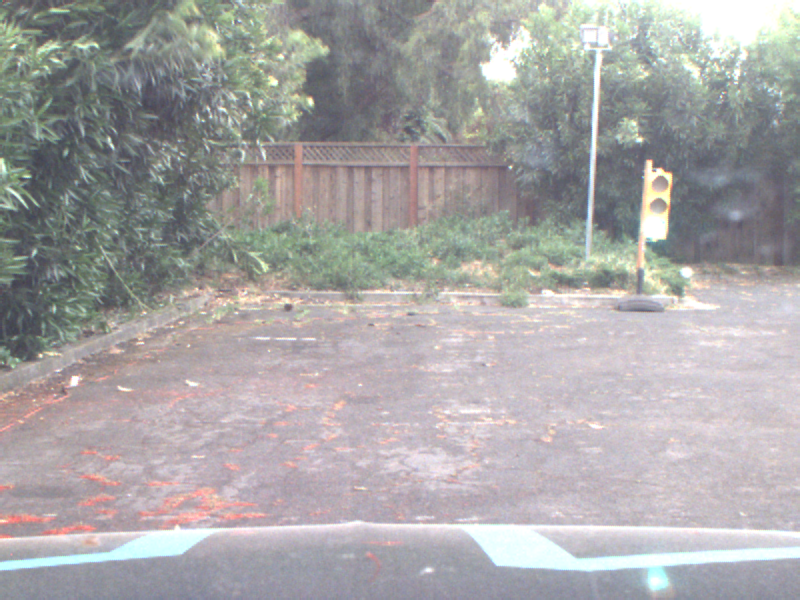Green: (644, 169, 669, 244)
